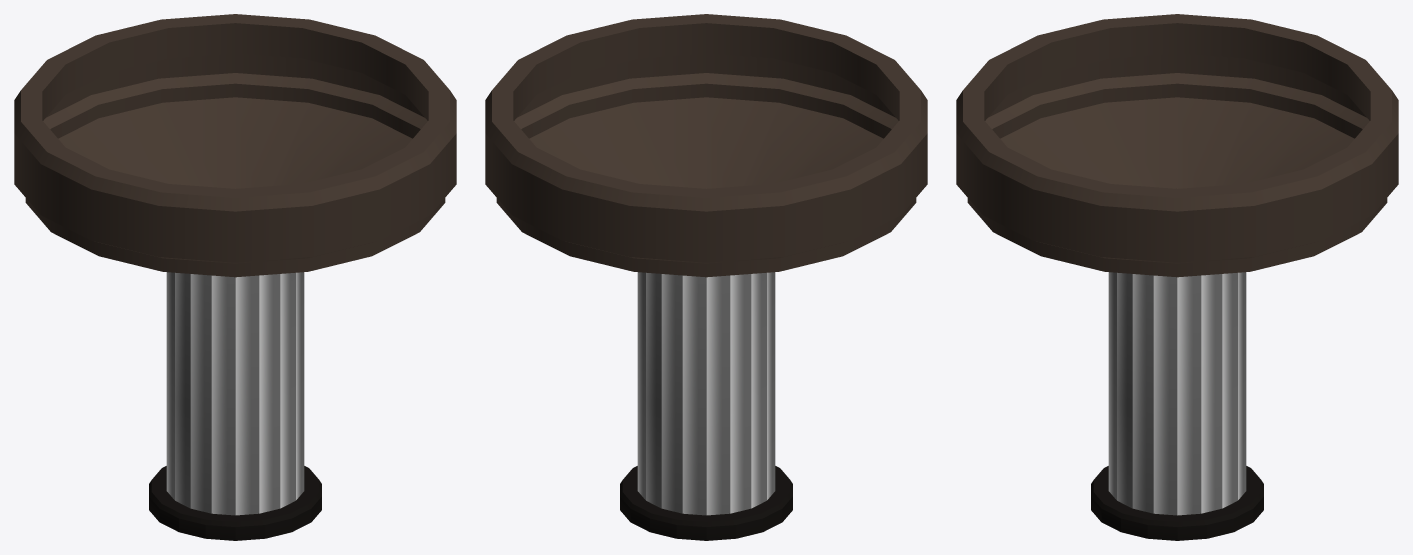
The model's file is bouton_Bottom_02E.FBX.
3 renders of one model, left to right at view 1: azimuth 30°, elevation 25°; view 2: azimuth 150°, elevation 25°; view 3: azimuth 270°, elevation 25°, orthographic.
Parts seen in each view (by area): view 1: Cylinder027; view 2: Cylinder027; view 3: Cylinder027.
Boxes of the visible parts, x1,y1,x2,y2 form: Cylinder027: (14, 14, 456, 540); Cylinder027: (485, 14, 927, 540); Cylinder027: (956, 14, 1398, 540).
Bounding box in the file's own units: 14.41 × 14.08 × 14.19.
